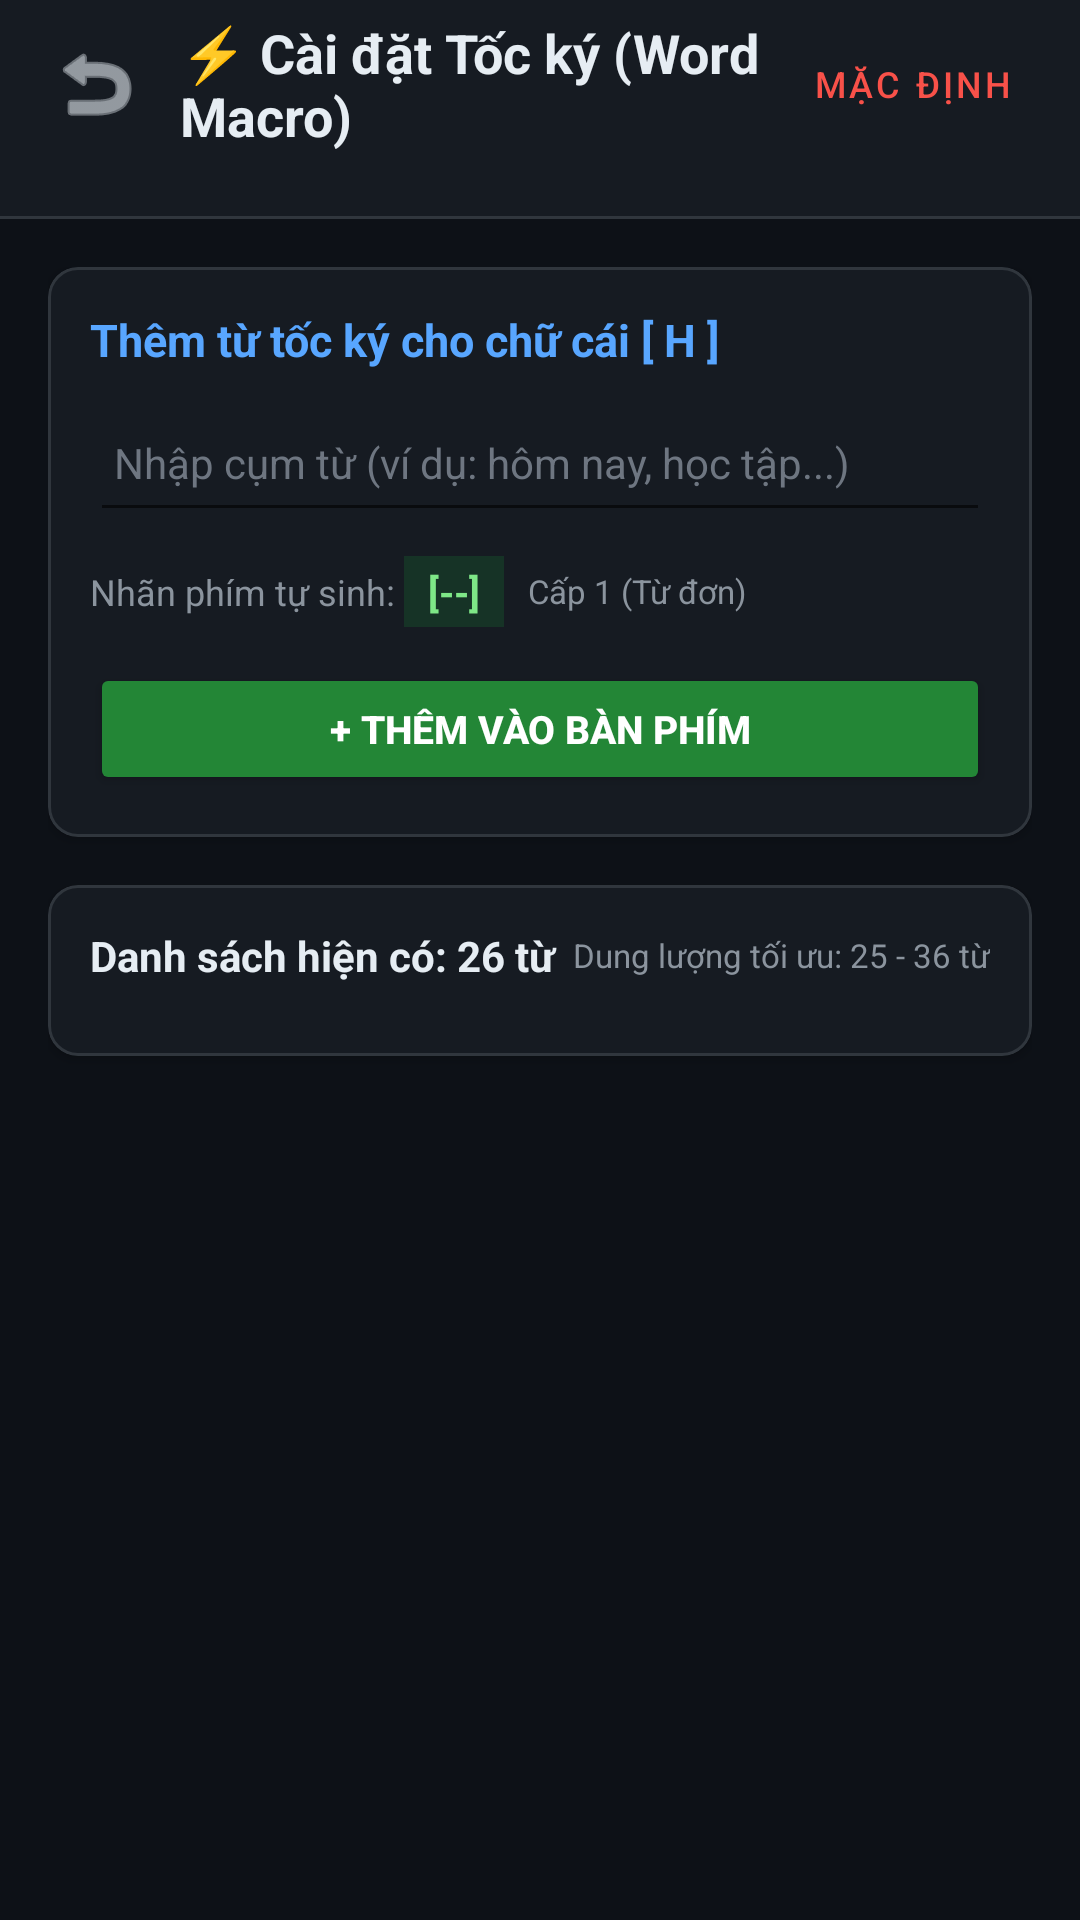

Point at icon controls on the screen. Image size 1080w x 1920h, points as (x,y).
Quay lại: (97,84)
